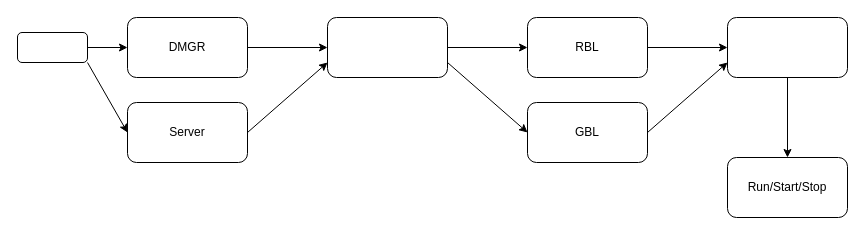
The diagram is 865 pixels wide and 235 high, and some of its shapes have lost their labels. Each missing label, with the centre of its shape:
"9 Applications" belongs at [387,47].
"TextBox" belongs at [787,47].
"W_Label" belongs at [52,47].
